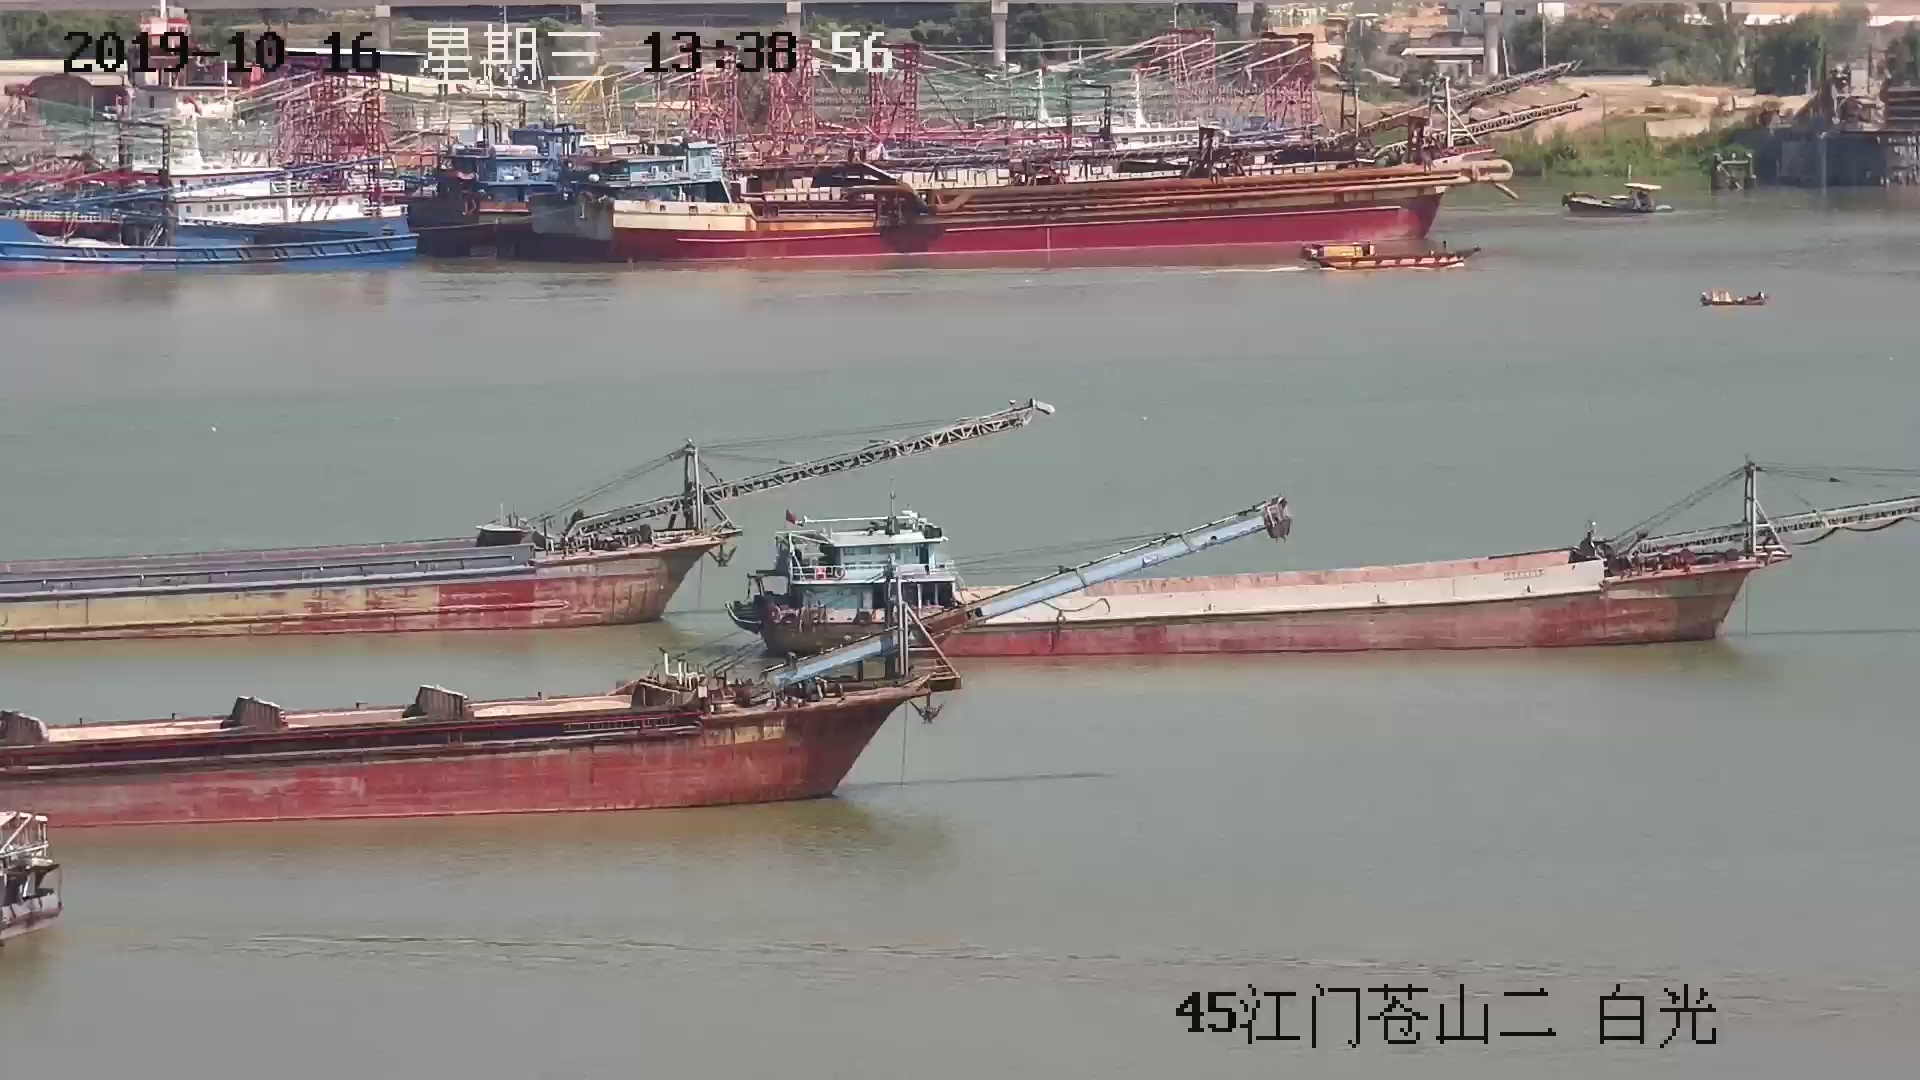ship: (1, 396, 1036, 636), (740, 469, 1920, 657), (3, 572, 926, 807), (1561, 165, 1663, 218), (1302, 243, 1484, 269), (1698, 280, 1766, 309)
